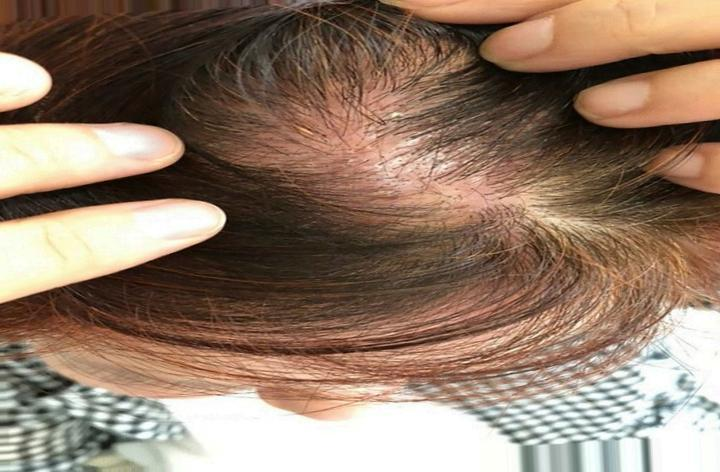Contact Dermatitis: (203, 61, 531, 288)
